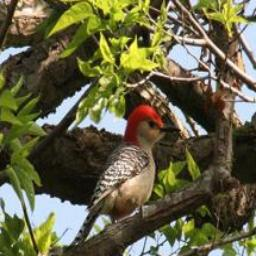Woodpecker: (64, 100, 181, 251)
